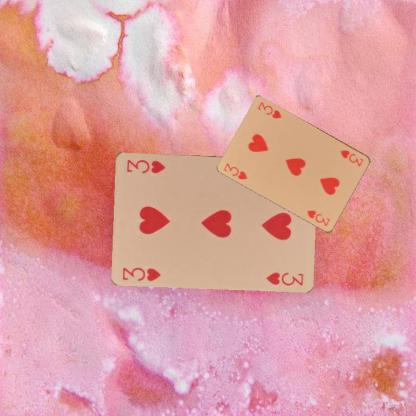3h: (121, 264, 162, 283), (221, 160, 249, 181), (338, 147, 365, 168)
